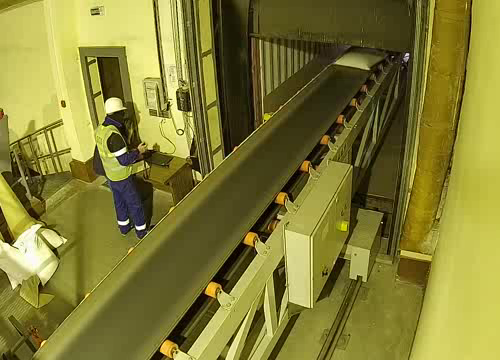bag: (332, 47, 389, 72)
